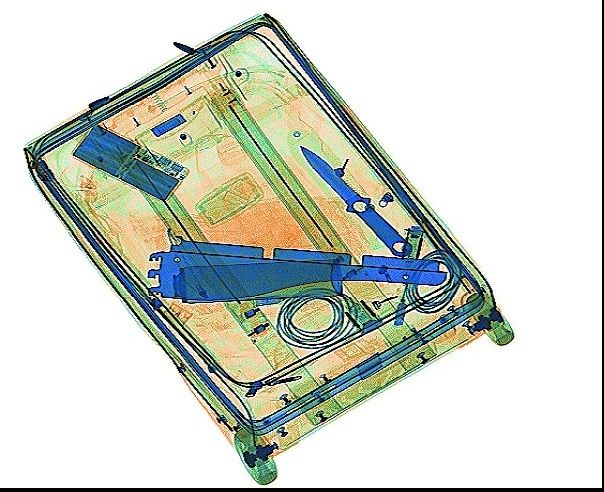knife: (297, 144, 414, 256)
powerbank: (67, 121, 189, 203)
pressure: (169, 256, 345, 305)
